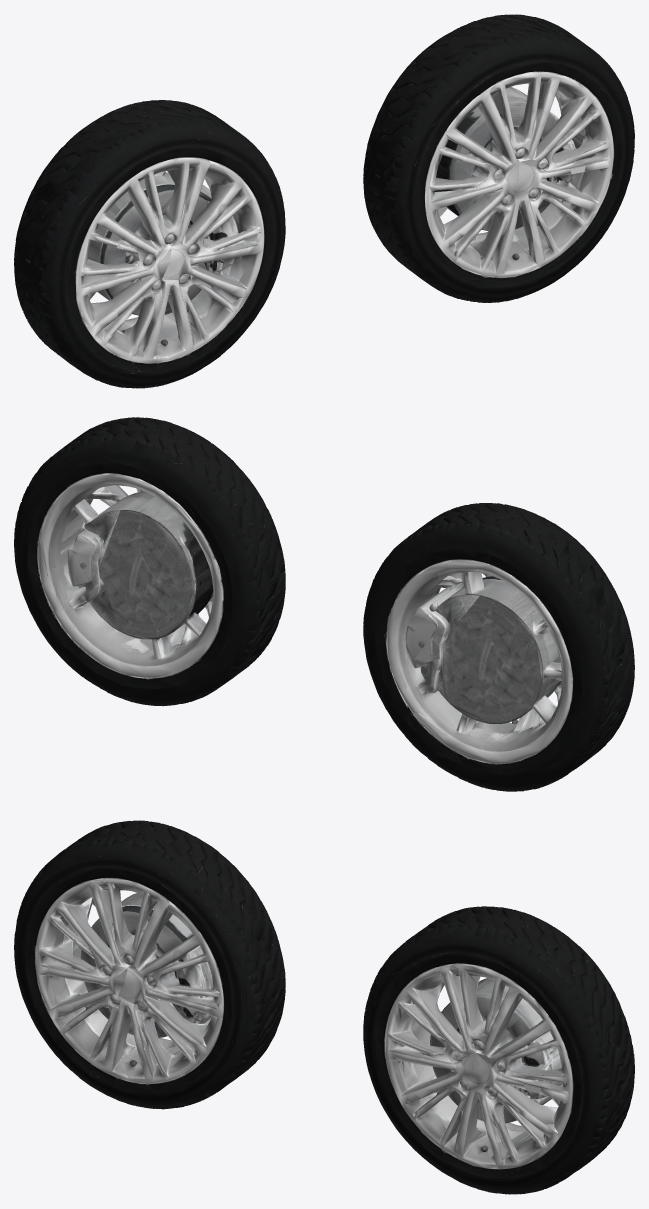
File: 3_wheels.glb
3 renders of one model, top to bottom at view 1: azimuth 30°, elevation 25°; view 2: azimuth 150°, elevation 25°; view 3: azimuth 330°, elevation 25°, orthographic.
Parts seen in each view (by area): view 1: Mesh_0; view 2: Mesh_0; view 3: Mesh_0.
Boxes of the visible parts, x1,y1,x2,y2 form: Mesh_0: (14,14,634,388); Mesh_0: (14,417,634,791); Mesh_0: (14,820,634,1194).
Bounding box in the file's own units: 1.53 × 0.65 × 0.1946.
Materials: 1 (1 with a texture image).
